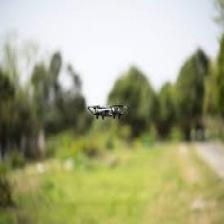drone: (88, 104, 128, 120)
